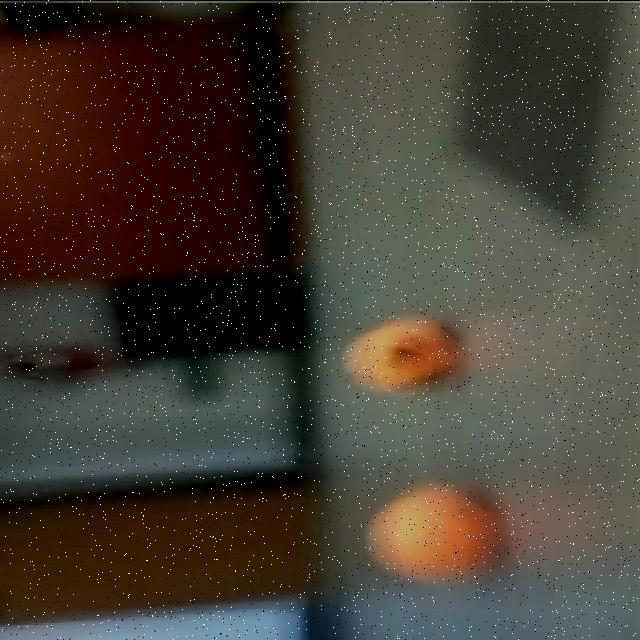ping-pong-ball: (363, 483, 503, 580), (342, 318, 458, 401)
